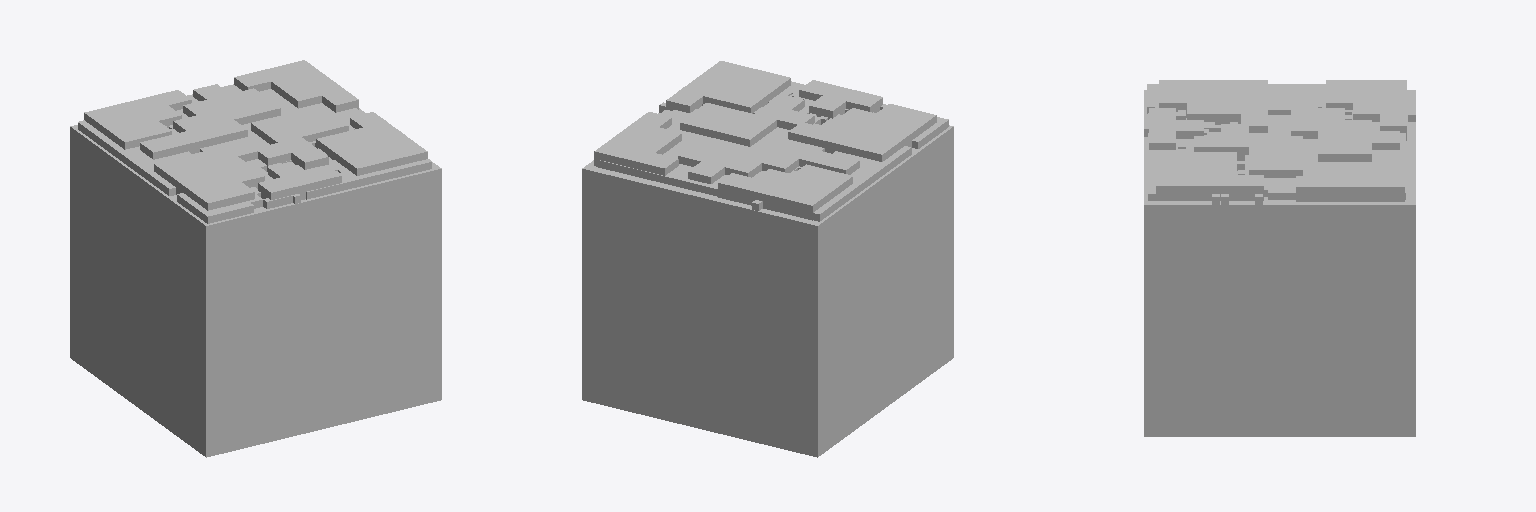
Rendered from core_left.obj.
3 renders of one model, left to right at view 1: azimuth 30°, elevation 25°; view 2: azimuth 150°, elevation 25°; view 3: azimuth 270°, elevation 25°, orthographic.
Visible parts, largest first — view 1: Cube.001; view 2: Cube.001; view 3: Cube.001.
Part boxes in pixels (bbox=[...]): Cube.001: bbox=[70, 60, 441, 457]; Cube.001: bbox=[582, 61, 953, 457]; Cube.001: bbox=[1144, 80, 1415, 436].
Bounding box in the file's own units: 1 × 0.9999 × 1.